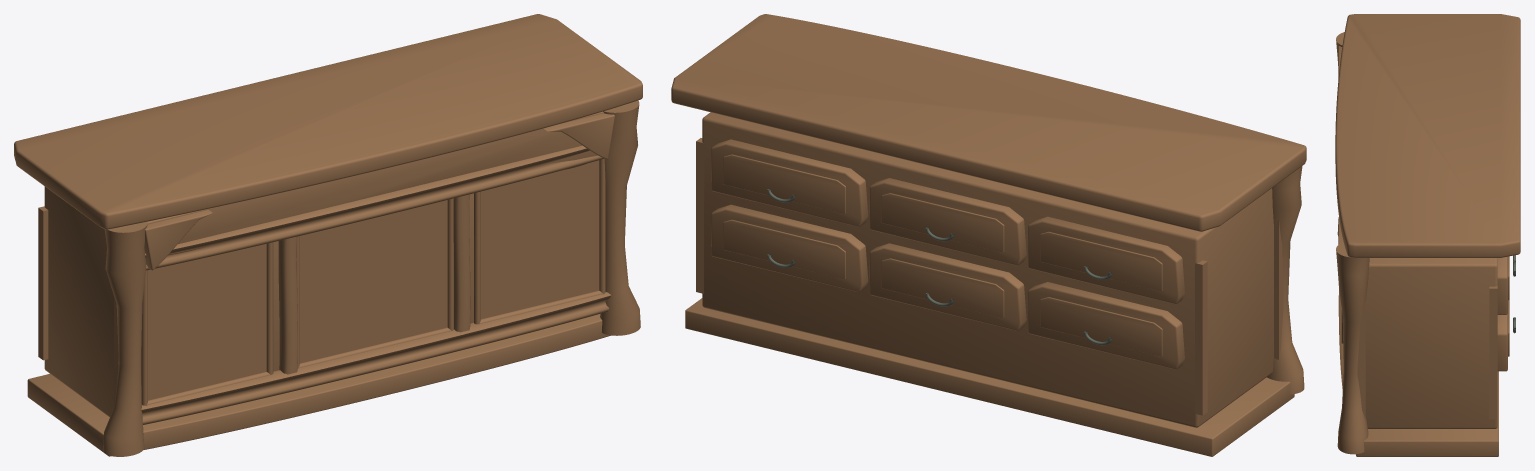
Rendered from CM_CW07_FormOnlyComparison.fbx.
3 views of the same model, side by side, from view 1: azimuth 30°, elevation 25°; view 2: azimuth 150°, elevation 25°; view 3: azimuth 270°, elevation 25° (orthographic). The views are drawn at different scales.
Parts seen in each view (by area): view 1: CM_CW07_FormOnlyComparison; view 2: CM_CW07_FormOnlyComparison; view 3: CM_CW07_FormOnlyComparison.
Boxes of the visible parts, box(x1,y1,x2,y2) form: CM_CW07_FormOnlyComparison: box(14, 14, 642, 456); CM_CW07_FormOnlyComparison: box(671, 14, 1306, 456); CM_CW07_FormOnlyComparison: box(1335, 14, 1520, 456).
Bounding box in the file's own units: 2.28 × 0.9975 × 0.7715.
